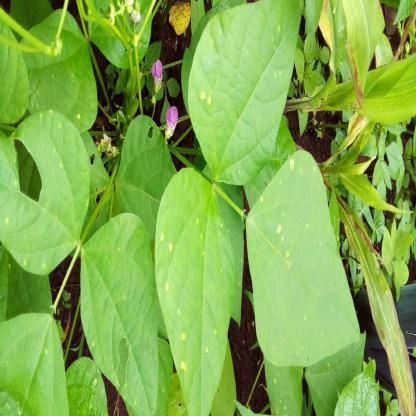Beans_Rust: (244, 152, 362, 367), (188, 0, 298, 181), (157, 172, 237, 416), (76, 214, 155, 416), (2, 111, 92, 281)
